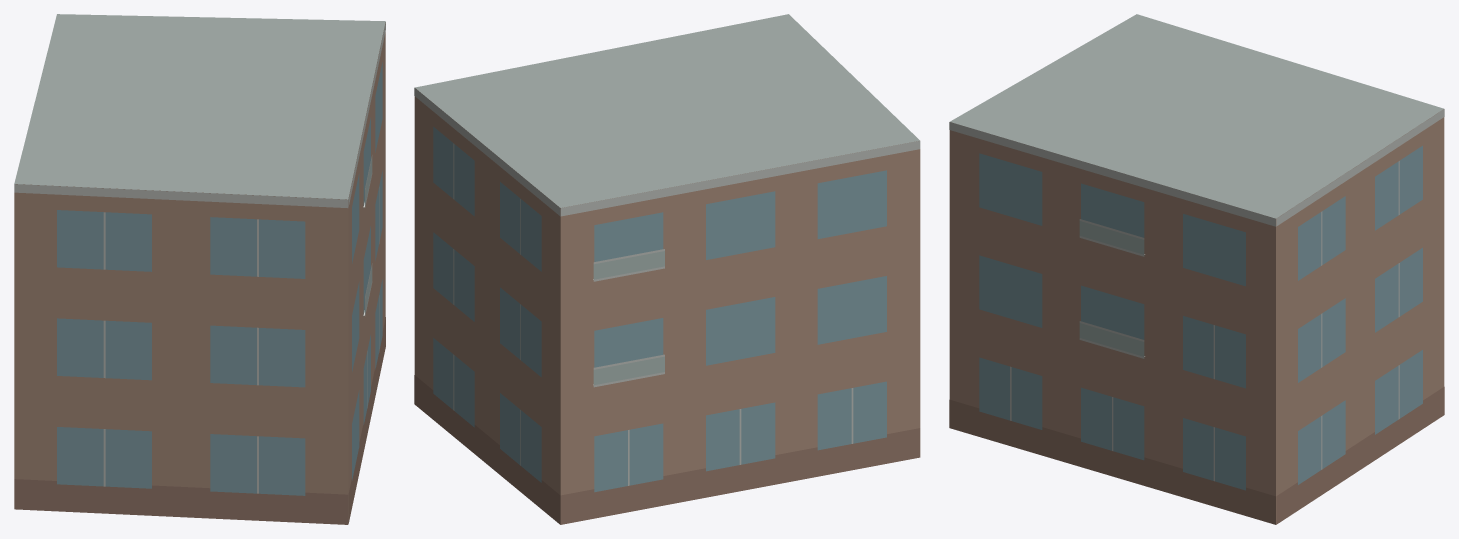
File: survey-upis-32817118.glb
The picture shows the model from 3 angles, left to right: view 1: azimuth 30°, elevation 25°; view 2: azimuth 150°, elevation 25°; view 3: azimuth 270°, elevation 25°; orthographic projection. The views are drawn at different scales.
Parts seen in each view (by area): view 1: survey-upis-32817118.tmp; view 2: survey-upis-32817118.tmp; view 3: survey-upis-32817118.tmp.
Part boxes in pixels (x1=…): survey-upis-32817118.tmp: x1=14, y1=14, x2=385, y2=524; survey-upis-32817118.tmp: x1=414, y1=14, x2=920, y2=524; survey-upis-32817118.tmp: x1=949, y1=14, x2=1444, y2=524.
Size of the model in its own units: 13.12 by 9.15 by 13.41.
